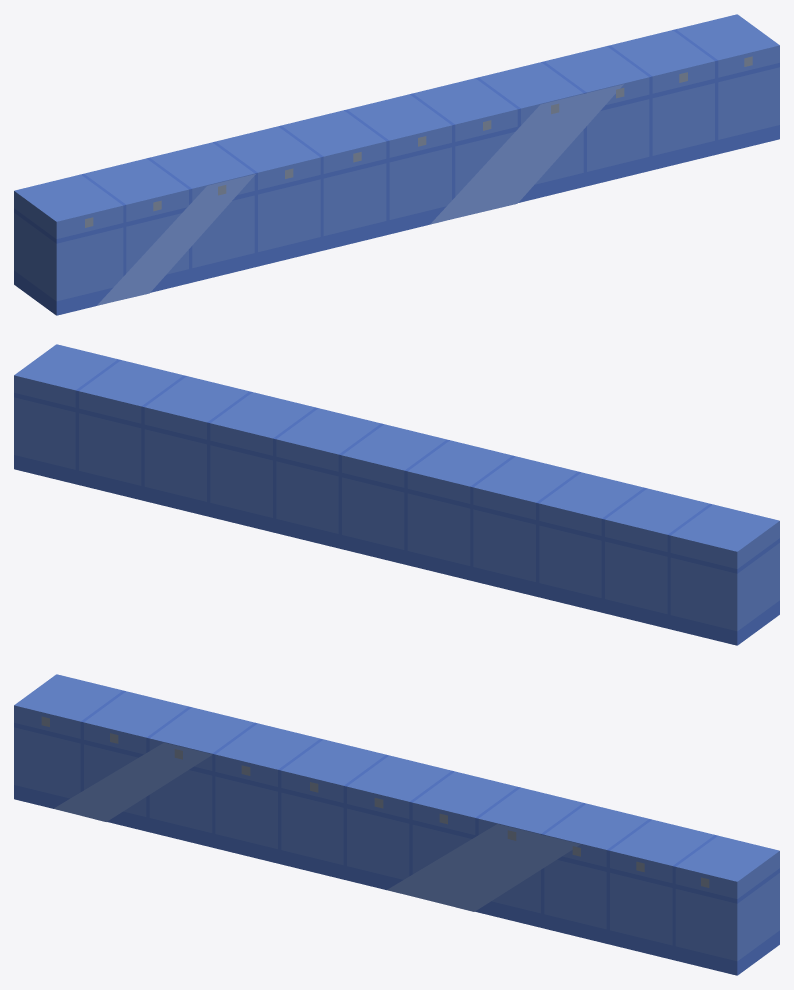
Rendered from Metall_Dark_2.fbx.
The picture shows the model from 3 angles, top to bottom: view 1: azimuth 30°, elevation 25°; view 2: azimuth 150°, elevation 25°; view 3: azimuth 330°, elevation 25°; orthographic projection.
Visible parts, largest first — view 1: Cube.024; view 2: Cube.024; view 3: Cube.024.
Part boxes in pixels (x1,y1,x2,y2): Cube.024: (14,14,779,315); Cube.024: (14,344,779,645); Cube.024: (14,674,779,975).
Size of the model in its own units: 342 by 42.48 by 35.15.
